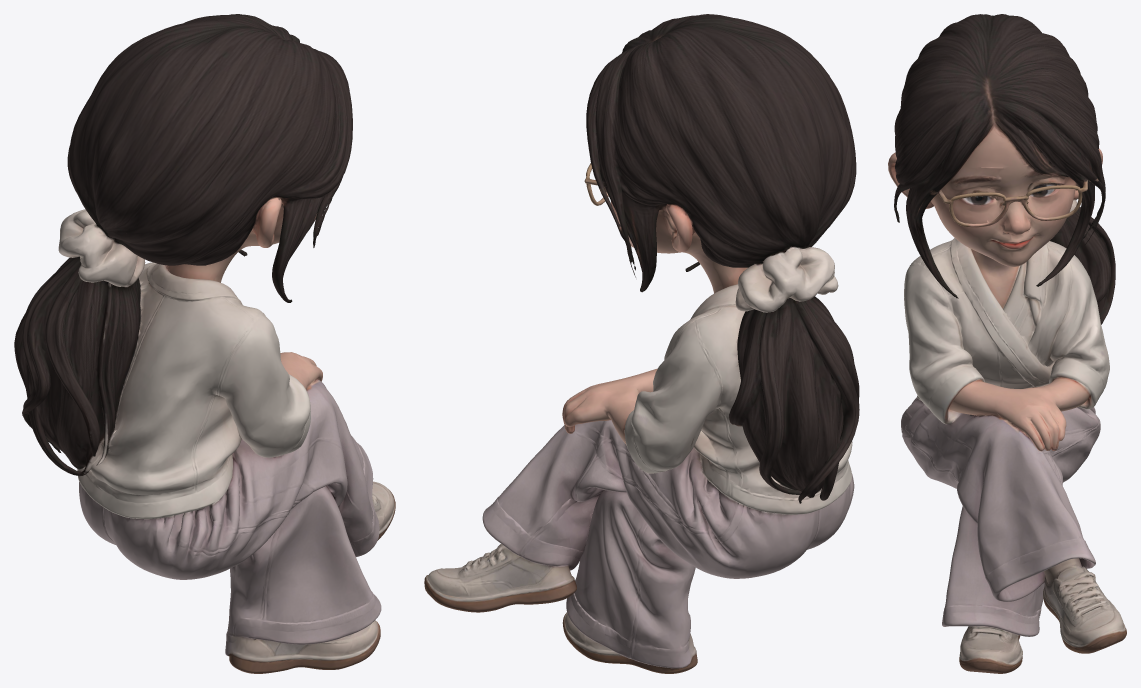
File: 牛心苗.glb
3 views of the same model, side by side, from view 1: azimuth 30°, elevation 25°; view 2: azimuth 150°, elevation 25°; view 3: azimuth 270°, elevation 25° (orthographic). The views are drawn at different scales.
Visible parts, largest first — view 1: tripo_node_aac8198e-6197-4753-866a-230d786d4dc0; view 2: tripo_node_aac8198e-6197-4753-866a-230d786d4dc0; view 3: tripo_node_aac8198e-6197-4753-866a-230d786d4dc0.
Boxes of the visible parts, bbox=[...] form: tripo_node_aac8198e-6197-4753-866a-230d786d4dc0: bbox=[14, 14, 395, 673]; tripo_node_aac8198e-6197-4753-866a-230d786d4dc0: bbox=[424, 14, 859, 673]; tripo_node_aac8198e-6197-4753-866a-230d786d4dc0: bbox=[888, 14, 1126, 673].
Bounding box in the file's own units: 0.619 × 0.9801 × 0.3614.
Materials: 1 (1 with a texture image).
